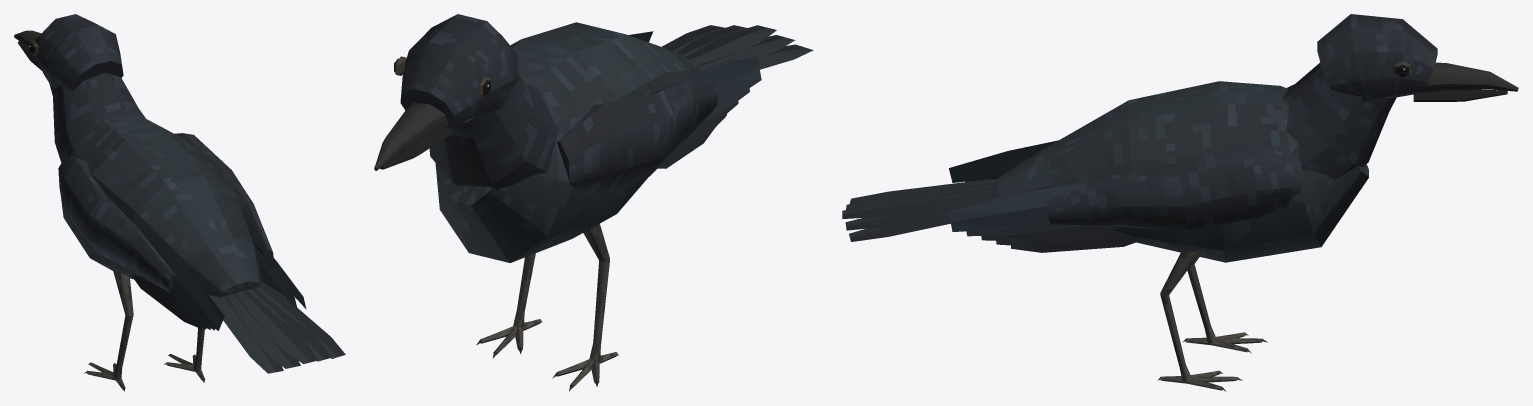
Rendered from mon_crow.glb.
3 renders of one model, left to right at view 1: azimuth 30°, elevation 25°; view 2: azimuth 150°, elevation 25°; view 3: azimuth 270°, elevation 25°, orthographic. The views are drawn at different scales.
Parts seen in each view (by area): view 1: mon_crow_mesh; view 2: mon_crow_mesh; view 3: mon_crow_mesh.
Boxes of the visible parts, x1,y1,x2,y2 form: mon_crow_mesh: (14,14,345,391); mon_crow_mesh: (374,14,813,391); mon_crow_mesh: (842,14,1518,391).
Bounding box in the file's own units: 0.1307 × 0.2547 × 0.4555.
Materials: 1 (1 with a texture image).
